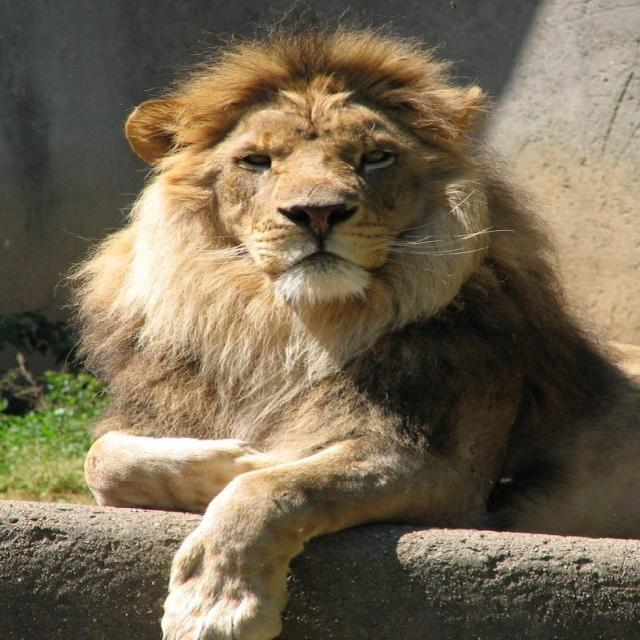lions: (37, 6, 640, 627)
